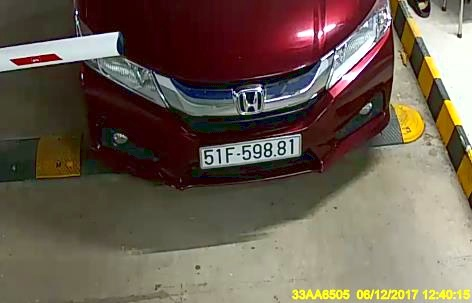plate: (194, 133, 305, 169)
